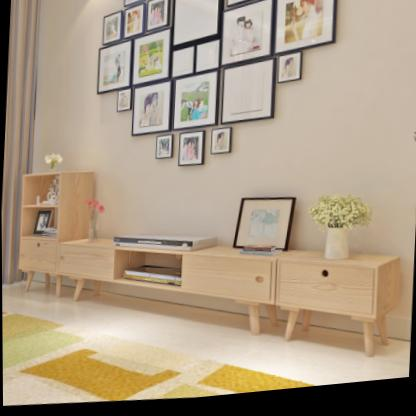Carpet: (2, 315, 313, 405)
TV stand: (18, 173, 401, 365)
